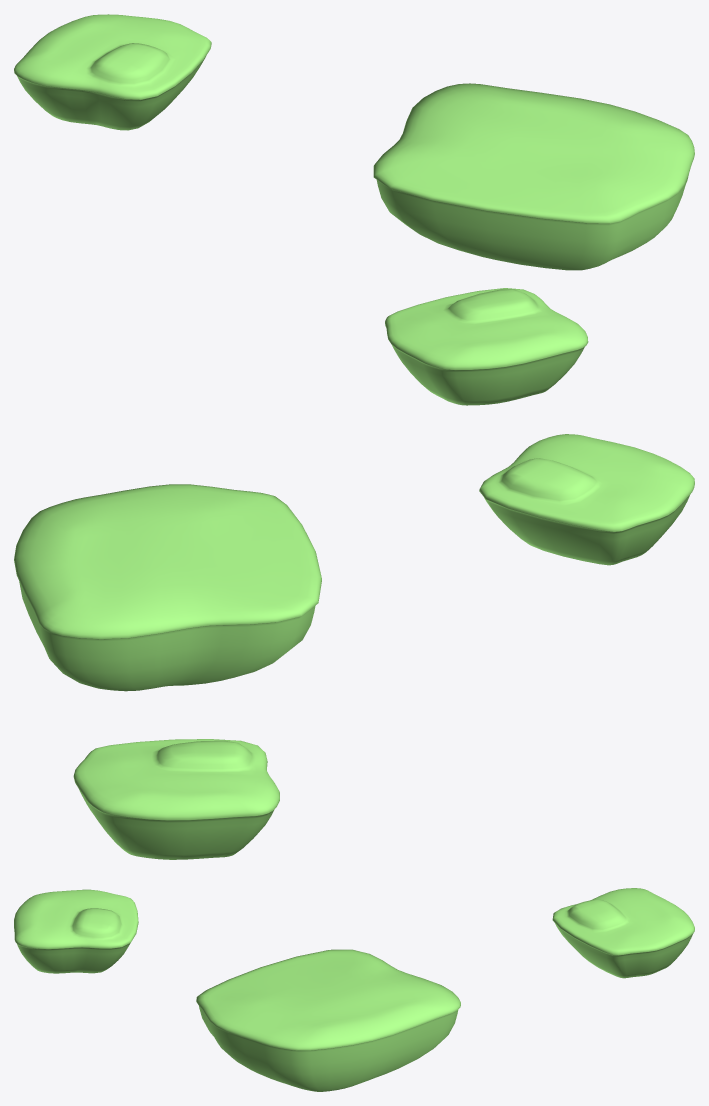
Rendered from lands.glb.
3 renders of one model, top to bottom at view 1: azimuth 30°, elevation 25°; view 2: azimuth 150°, elevation 25°; view 3: azimuth 270°, elevation 25°, orthographic. The views are drawn at different scales.
Parts seen in each view (by area): view 1: gameLand001, artLand, artLand001; view 2: gameLand001, artLand001, artLand; view 3: gameLand001, artLand001, artLand.
Boxes of the visible parts, <box> form: gameLand001: <box>373,83,694,270</box>; artLand: <box>385,288,588,405</box>; artLand001: <box>14,14,211,130</box>; gameLand001: <box>14,484,321,691</box>; artLand001: <box>73,739,279,859</box>; artLand: <box>479,434,694,565</box>; gameLand001: <box>196,949,460,1091</box>; artLand001: <box>552,888,694,978</box>; artLand: <box>14,889,138,973</box>.
Size of the model in its own units: 711 by 179 by 1283.
